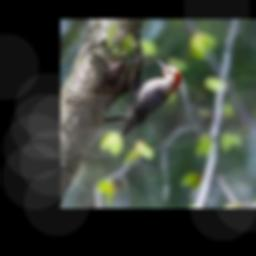Woodpecker: (101, 58, 180, 135)
